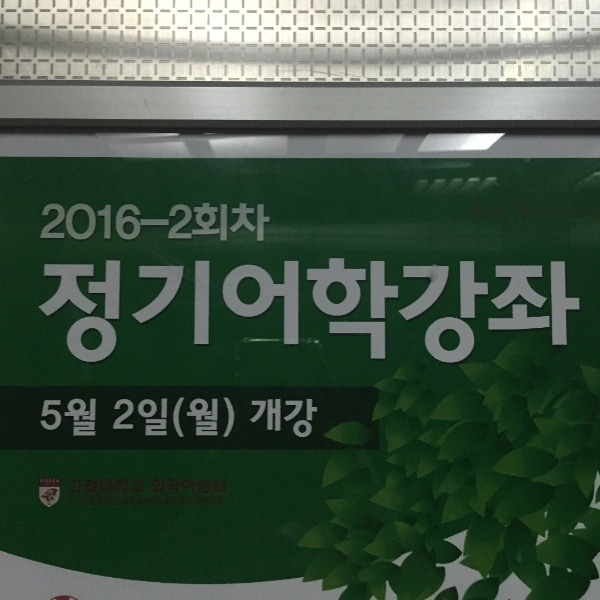text: (49, 257, 64, 368), (65, 257, 80, 368), (81, 257, 96, 368), (97, 257, 112, 368), (113, 257, 128, 368), (129, 257, 144, 368), (145, 257, 160, 368), (161, 257, 176, 368), (177, 257, 192, 368), (193, 257, 208, 368), (209, 257, 224, 368), (225, 257, 240, 368), (241, 257, 256, 368), (257, 257, 272, 368), (273, 257, 288, 368), (289, 257, 304, 368), (305, 257, 320, 368), (321, 257, 336, 368), (337, 257, 352, 368), (353, 257, 368, 368), (369, 257, 384, 368), (385, 257, 400, 368), (401, 257, 416, 368), (417, 257, 432, 368), (433, 257, 448, 368), (449, 257, 464, 368), (465, 257, 480, 368), (481, 257, 496, 368), (497, 257, 512, 368), (513, 257, 528, 368), (529, 257, 544, 368), (545, 257, 560, 368), (561, 257, 576, 368), (37, 257, 48, 368), (81, 396, 97, 440), (113, 396, 128, 442), (129, 396, 144, 442), (145, 396, 160, 442), (161, 396, 176, 442), (177, 396, 192, 442), (193, 396, 208, 442), (209, 396, 224, 442), (257, 398, 272, 443), (273, 398, 288, 443), (289, 398, 304, 443), (577, 257, 583, 368), (49, 396, 64, 440), (65, 396, 80, 440), (257, 203, 273, 244), (305, 398, 319, 443), (49, 203, 64, 244), (65, 203, 80, 244), (81, 203, 96, 244), (97, 203, 112, 244), (113, 203, 128, 244), (129, 203, 144, 244), (145, 203, 160, 244), (161, 203, 176, 244), (177, 203, 192, 244), (193, 203, 208, 244), (209, 203, 224, 244), (225, 203, 240, 244), (241, 203, 256, 244), (225, 396, 236, 442), (41, 396, 48, 440), (161, 477, 176, 497), (177, 477, 192, 497), (193, 477, 208, 497), (209, 477, 224, 497), (129, 478, 145, 496), (41, 203, 48, 244), (81, 478, 96, 496), (97, 478, 112, 496), (113, 478, 128, 496), (251, 398, 256, 443), (69, 478, 80, 496), (81, 496, 96, 509), (97, 496, 112, 509), (113, 496, 128, 509), (129, 496, 144, 509), (145, 496, 160, 509), (161, 496, 176, 509), (177, 496, 192, 509), (193, 496, 208, 509), (209, 496, 224, 509), (151, 477, 160, 497), (68, 496, 80, 509), (49, 479, 59, 484), (225, 477, 227, 497), (40, 479, 48, 484), (225, 496, 226, 509)
